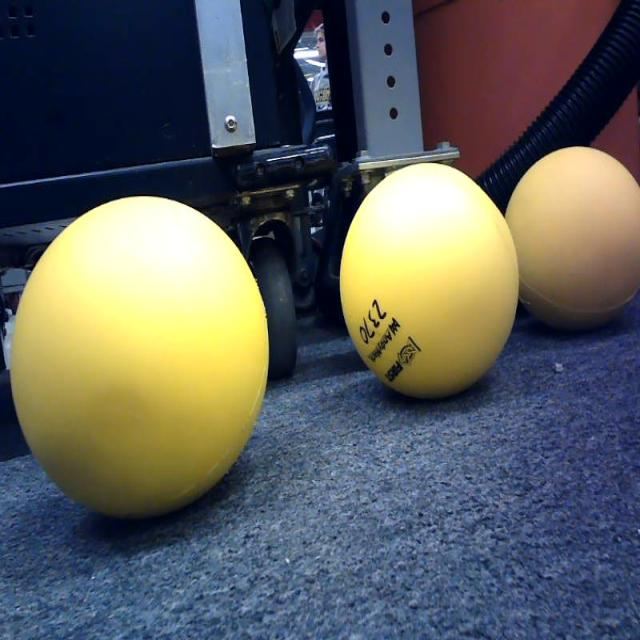Fuel: (12, 195, 270, 522), (340, 162, 520, 401), (503, 146, 639, 333)
